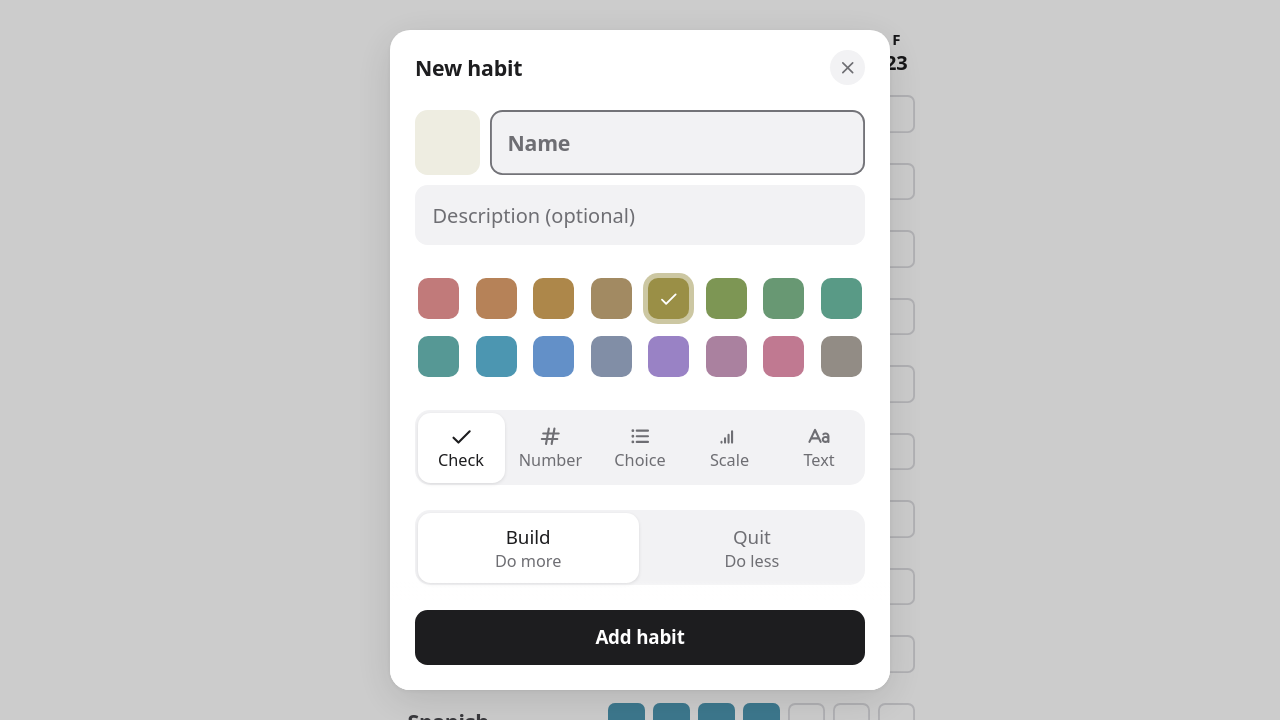
create › a check habit is added, and the sheet closes
Type "Stretch" into the field labelled "Name". click: (678, 142)
box: [490,110,865,175]
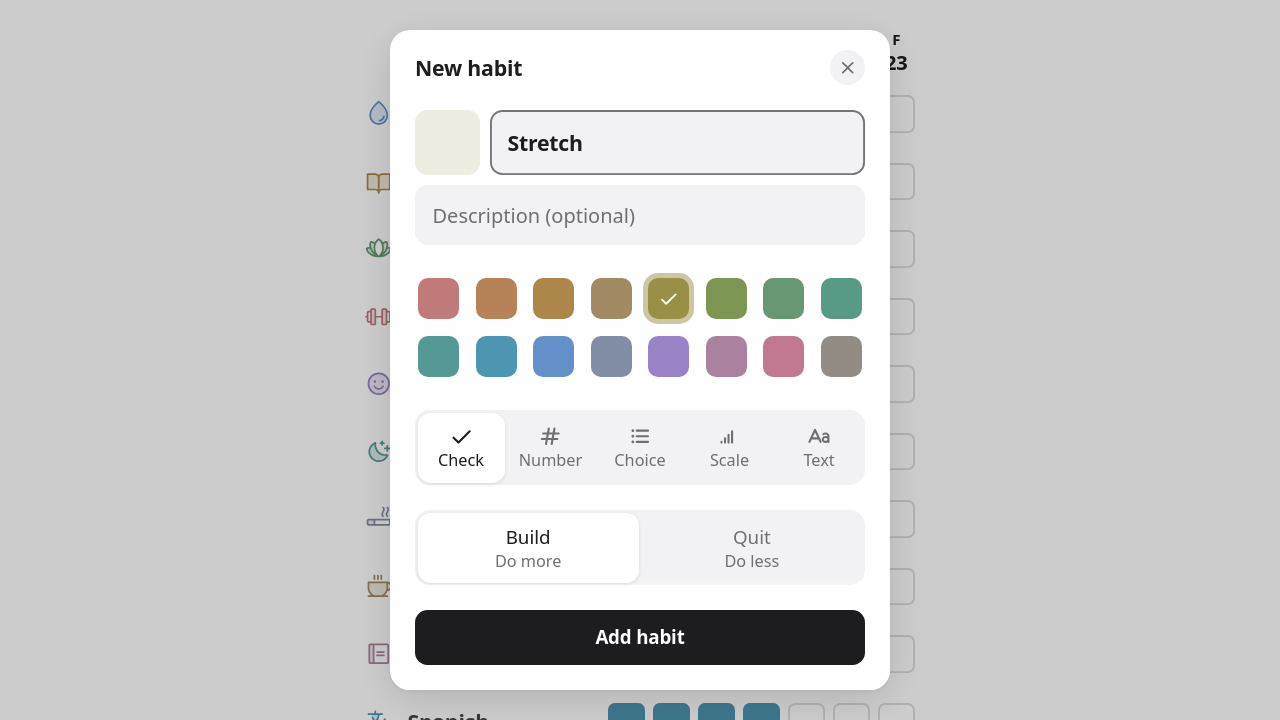
Click the button "Add habit". click: click(640, 638)
box: [415,610,865,665]
(page scrolled)
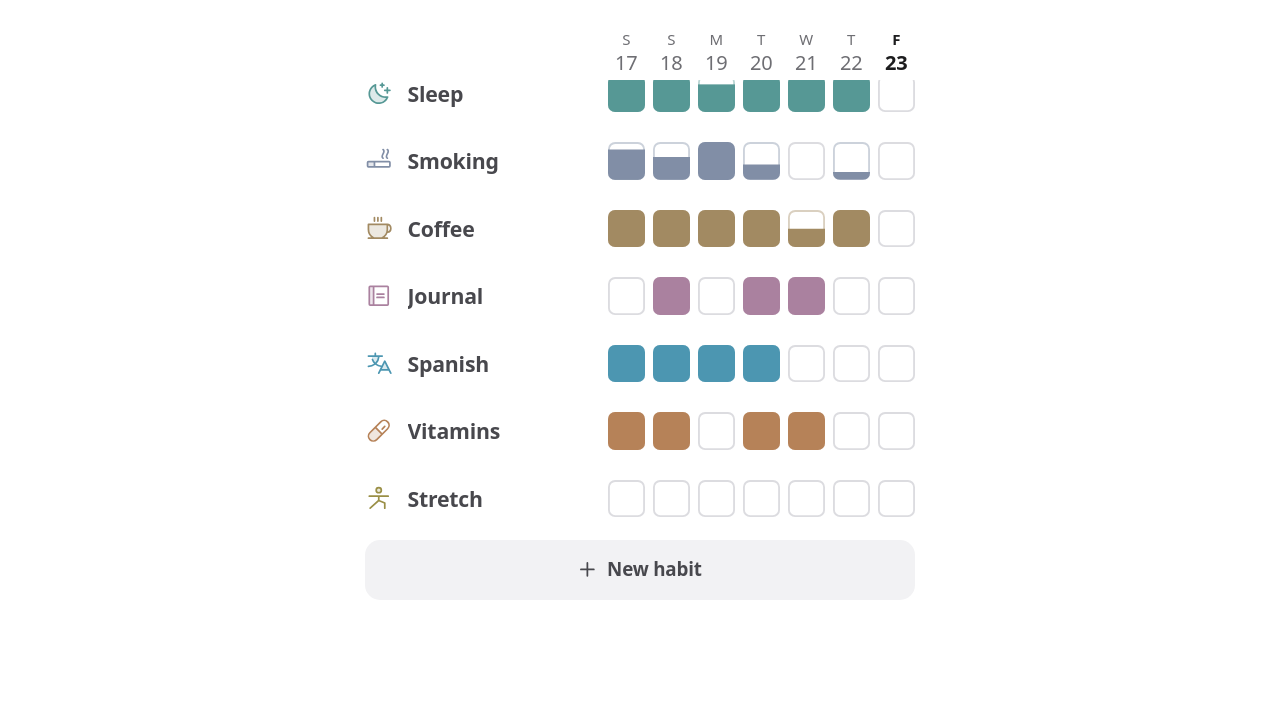
Check: the text "Stretch" is shown, box [408,484,483,512]
